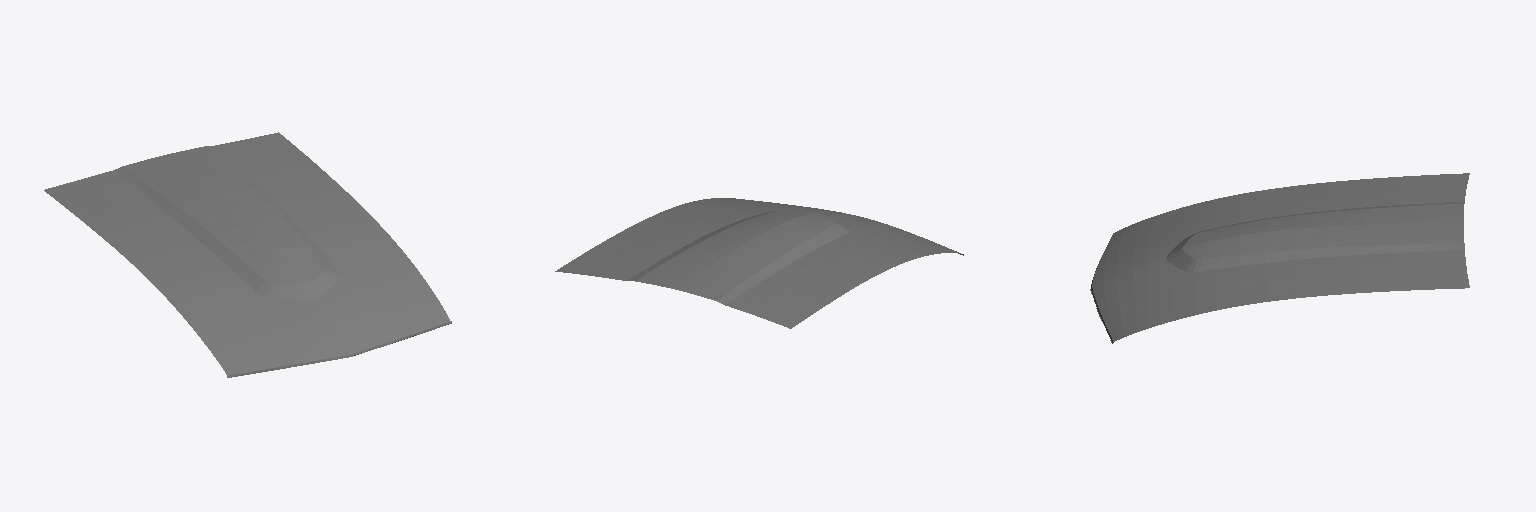
The model's file is Cofre.obj.
3 views of the same model, side by side, from view 1: azimuth 30°, elevation 25°; view 2: azimuth 150°, elevation 25°; view 3: azimuth 270°, elevation 25° (orthographic).
Visible parts, largest first — view 1: Cofre; view 2: Cofre; view 3: Cofre.
Boxes of the visible parts, box(x1,y1,x2,y2) form: Cofre: box(44, 132, 451, 377); Cofre: box(555, 198, 963, 328); Cofre: box(1090, 173, 1469, 343).
Size of the model in its own units: 3.16 by 0.8581 by 4.41.